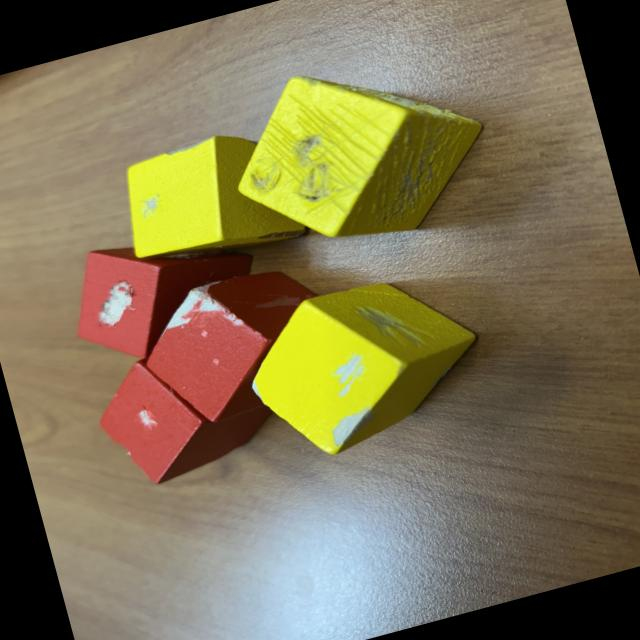broken: (213, 33, 504, 272), (233, 259, 497, 471), (129, 258, 345, 434), (84, 325, 291, 496), (57, 212, 271, 374), (113, 118, 309, 278)
